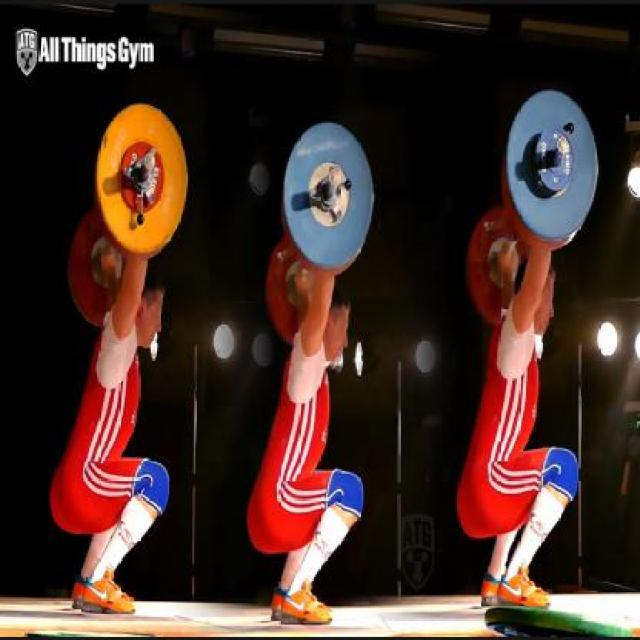barbell: (92, 96, 195, 259), (504, 83, 603, 249), (281, 119, 376, 274)
